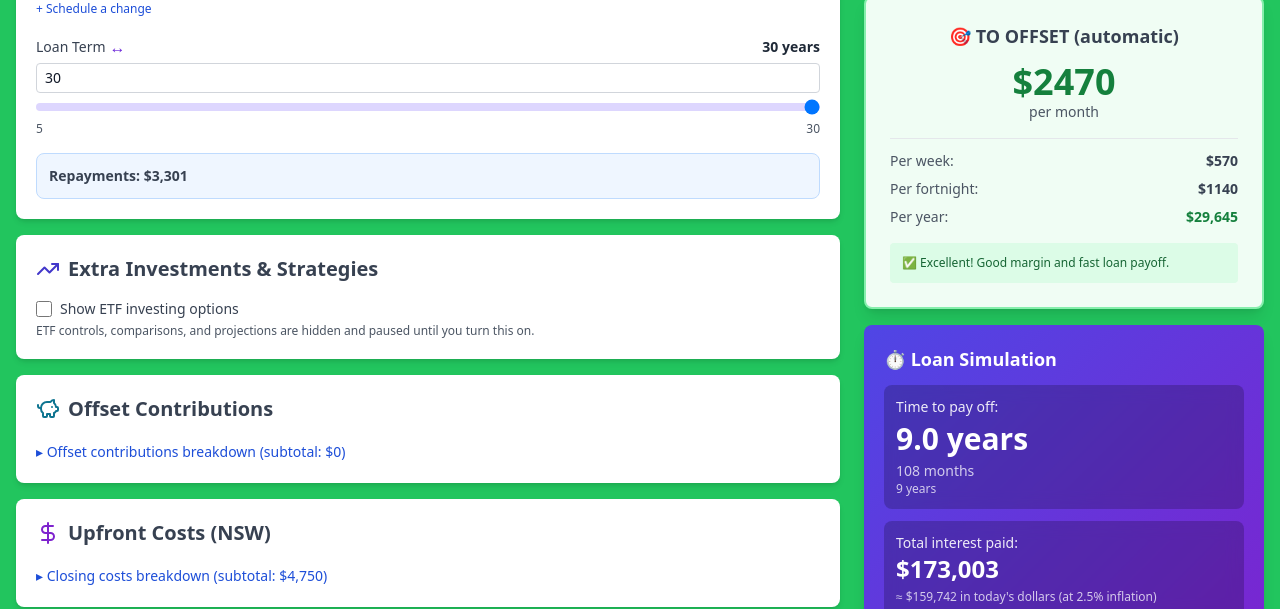
Test: ETF start trigger selector (TODO-144) › defaults to "Right away", matching the pre-existing behaviour
The width and height of the screenshot is (1280, 609).
(page scrolled)
Click the checkbox labelled "Show ETF investing options". click: (44,309)
box: [36,301,52,317]
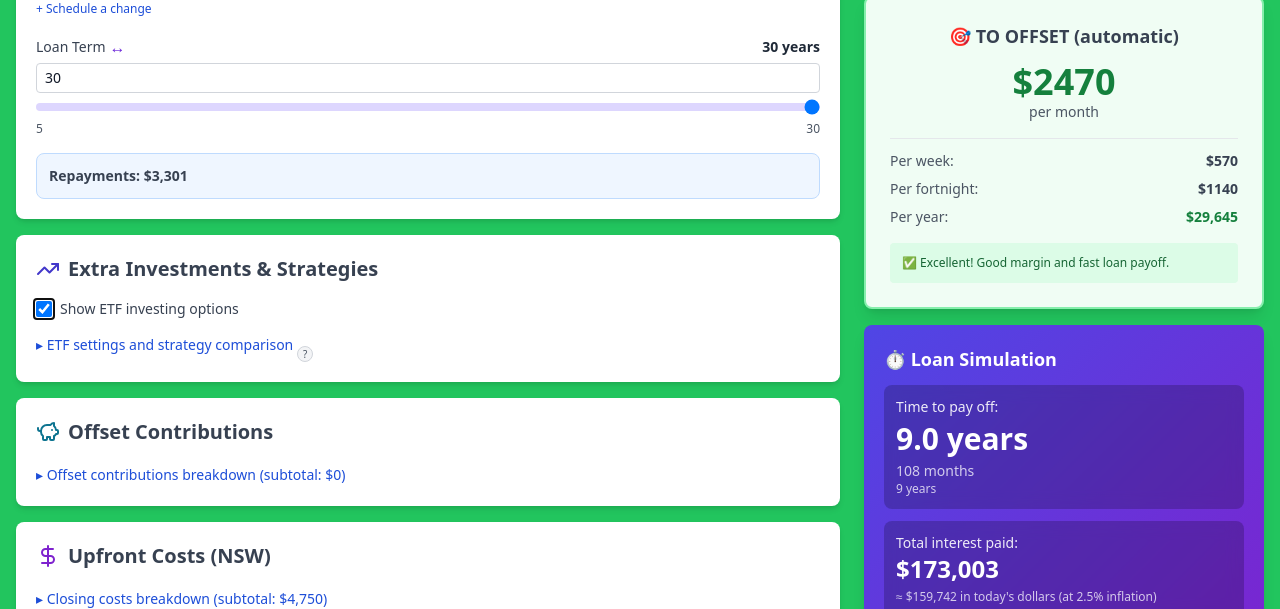
Click the button "▸ ETF settings and strategy comparison". click: (165,345)
box: [36,335,293,355]
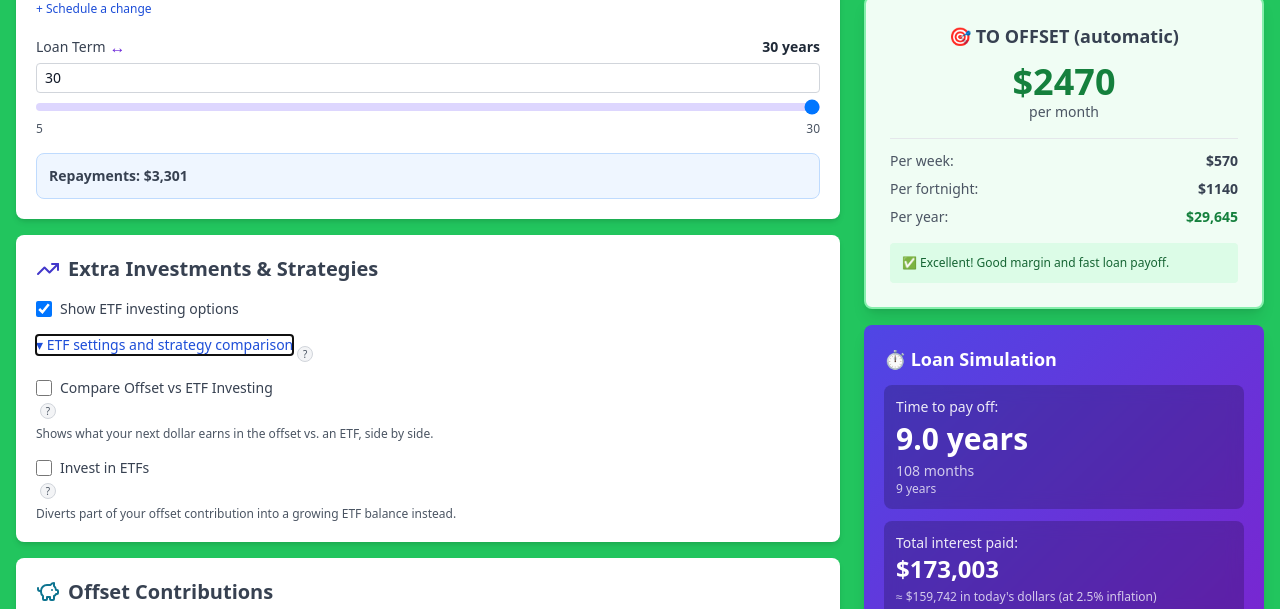
Click the checkbox labelled "Invest in ETFs". click: (44,468)
box: [36,460,52,476]
(page scrolled)
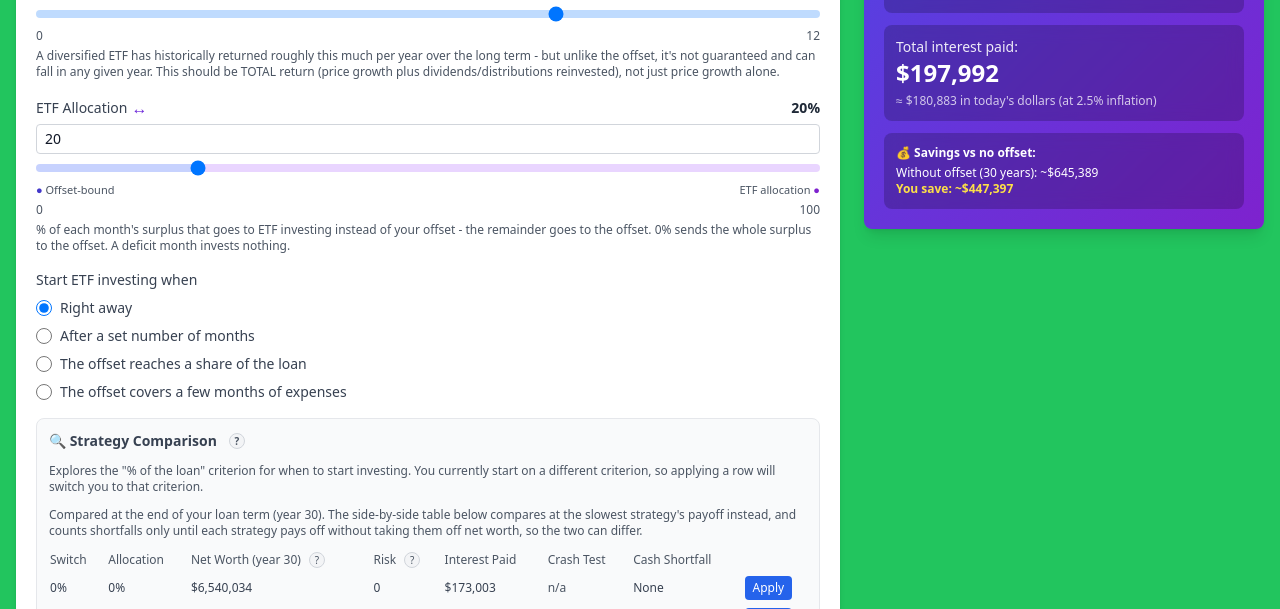
Now the radio button labelled "Right away" is checked, box [36,300,52,316]
